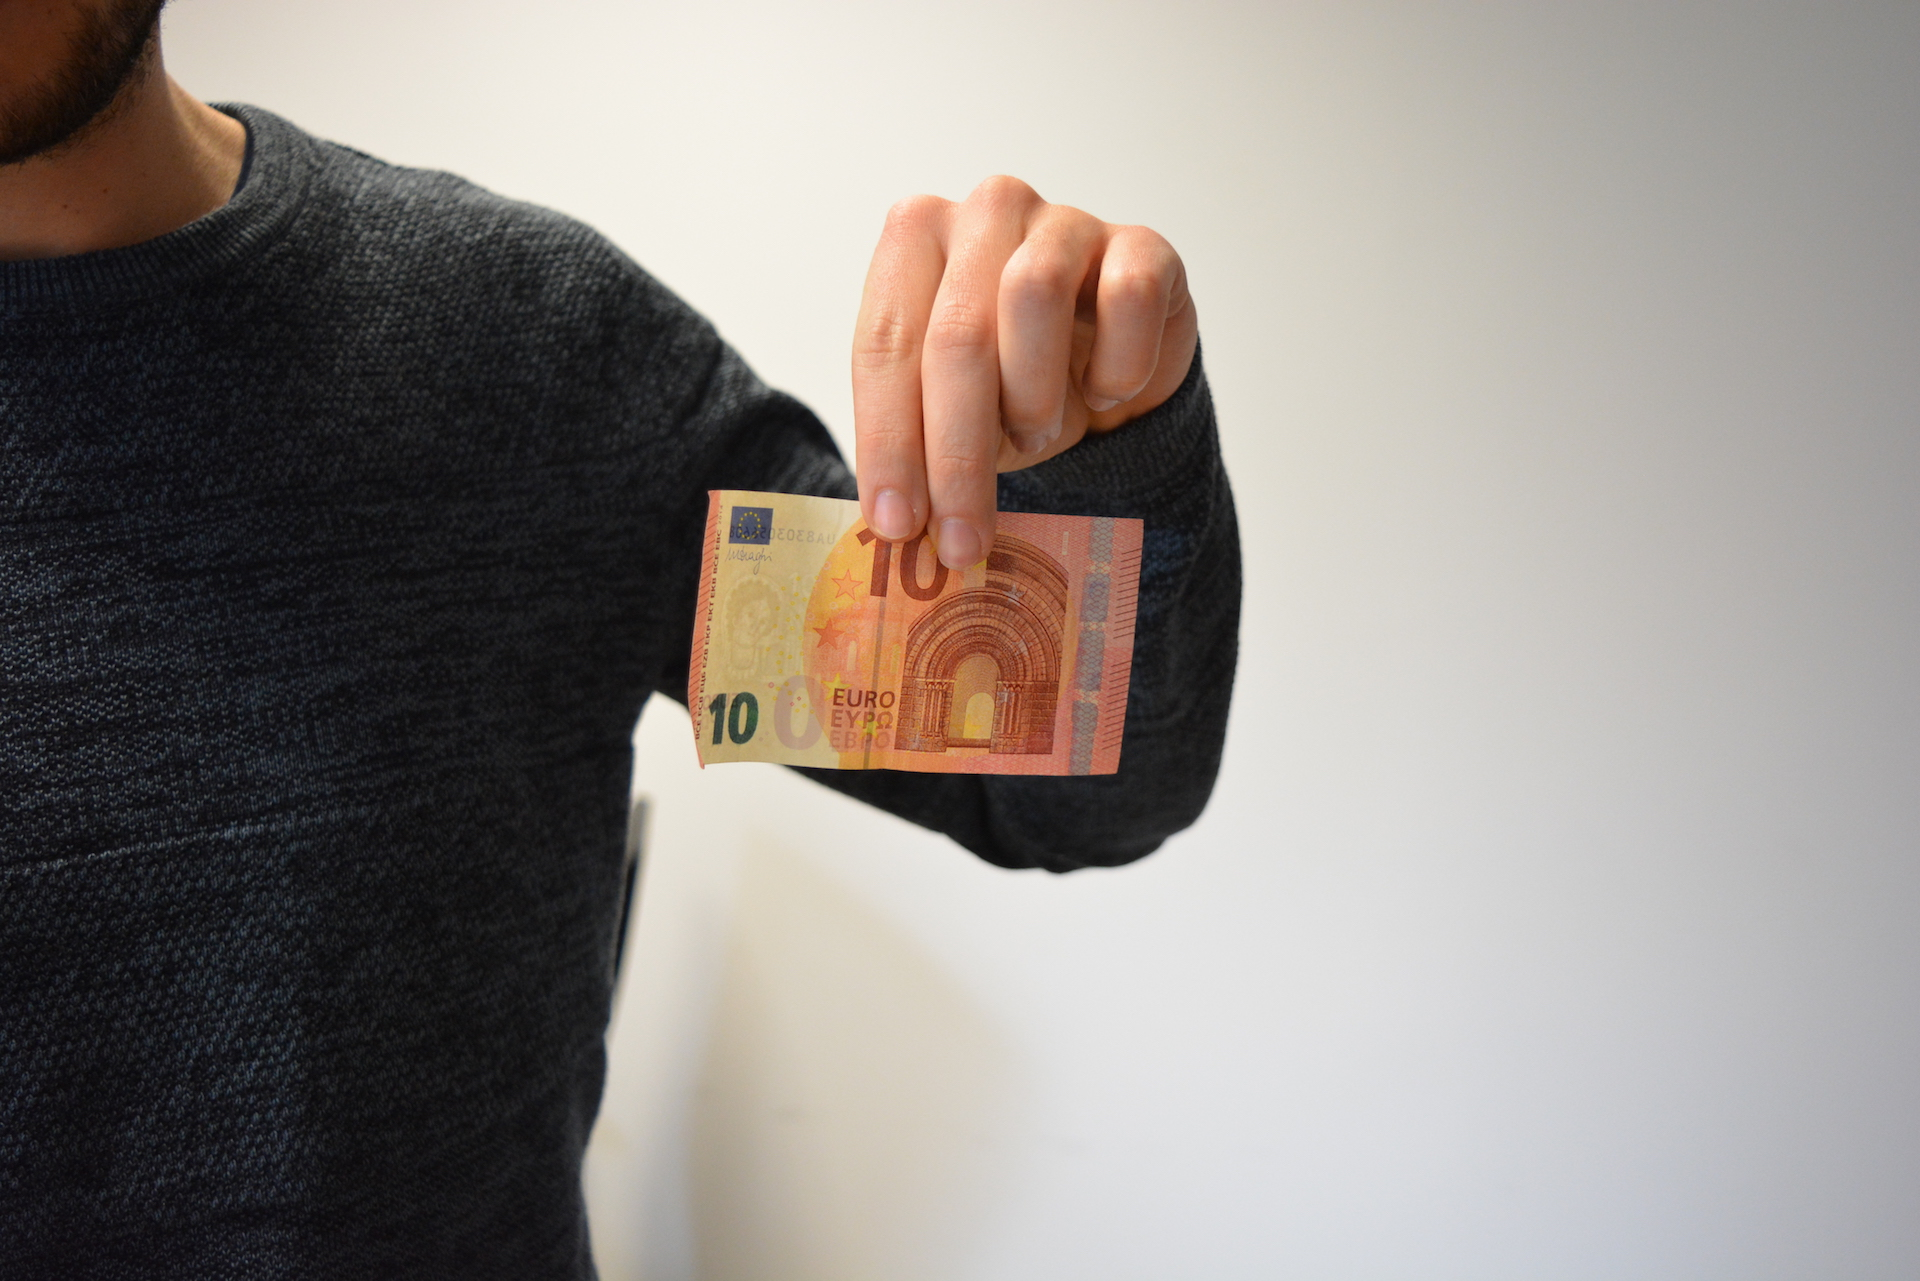billete: (685, 486, 1147, 779)
